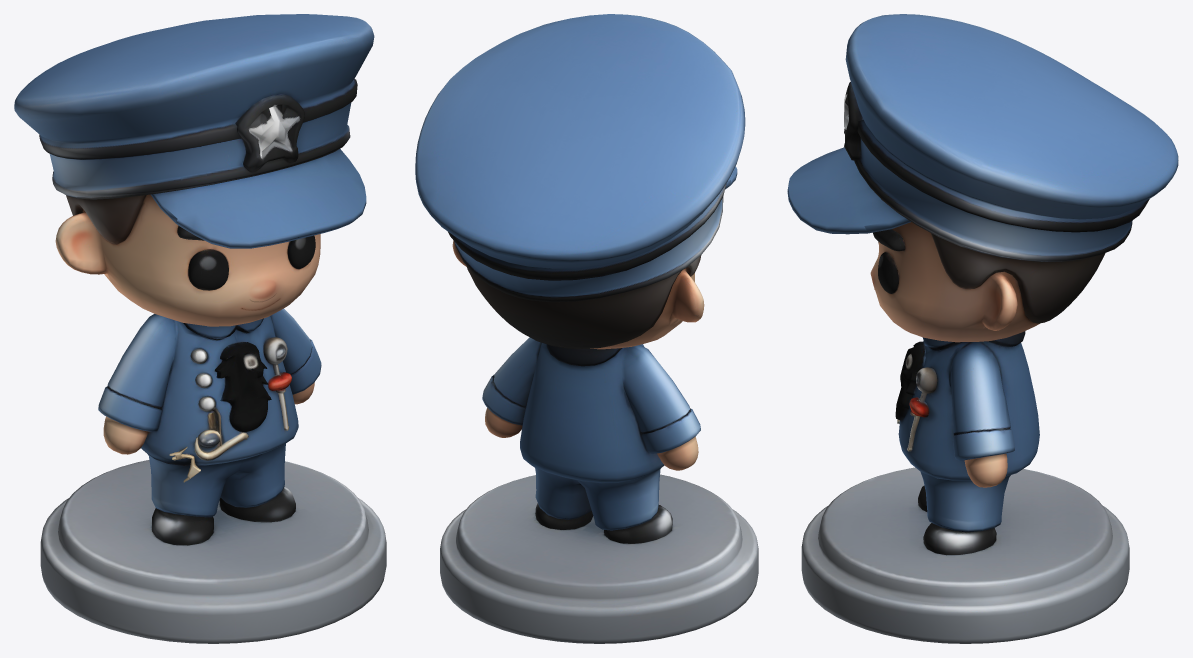
The model's file is sing-king.glb.
The picture shows the model from 3 angles, left to right: view 1: azimuth 30°, elevation 25°; view 2: azimuth 150°, elevation 25°; view 3: azimuth 270°, elevation 25°; orthographic projection. The views are drawn at different scales.
Parts seen in each view (by area): view 1: bed699d9_3ea0_429f_873a_fe7ca3a11a6c; view 2: bed699d9_3ea0_429f_873a_fe7ca3a11a6c; view 3: bed699d9_3ea0_429f_873a_fe7ca3a11a6c.
Part boxes in pixels (x1=…): bed699d9_3ea0_429f_873a_fe7ca3a11a6c: x1=14, y1=14, x2=386, y2=643; bed699d9_3ea0_429f_873a_fe7ca3a11a6c: x1=415, y1=14, x2=758, y2=643; bed699d9_3ea0_429f_873a_fe7ca3a11a6c: x1=787, y1=14, x2=1178, y2=643.
Size of the model in its own units: 0.5845 by 0.9995 by 0.6626.
Materials: 1 (1 with a texture image).
